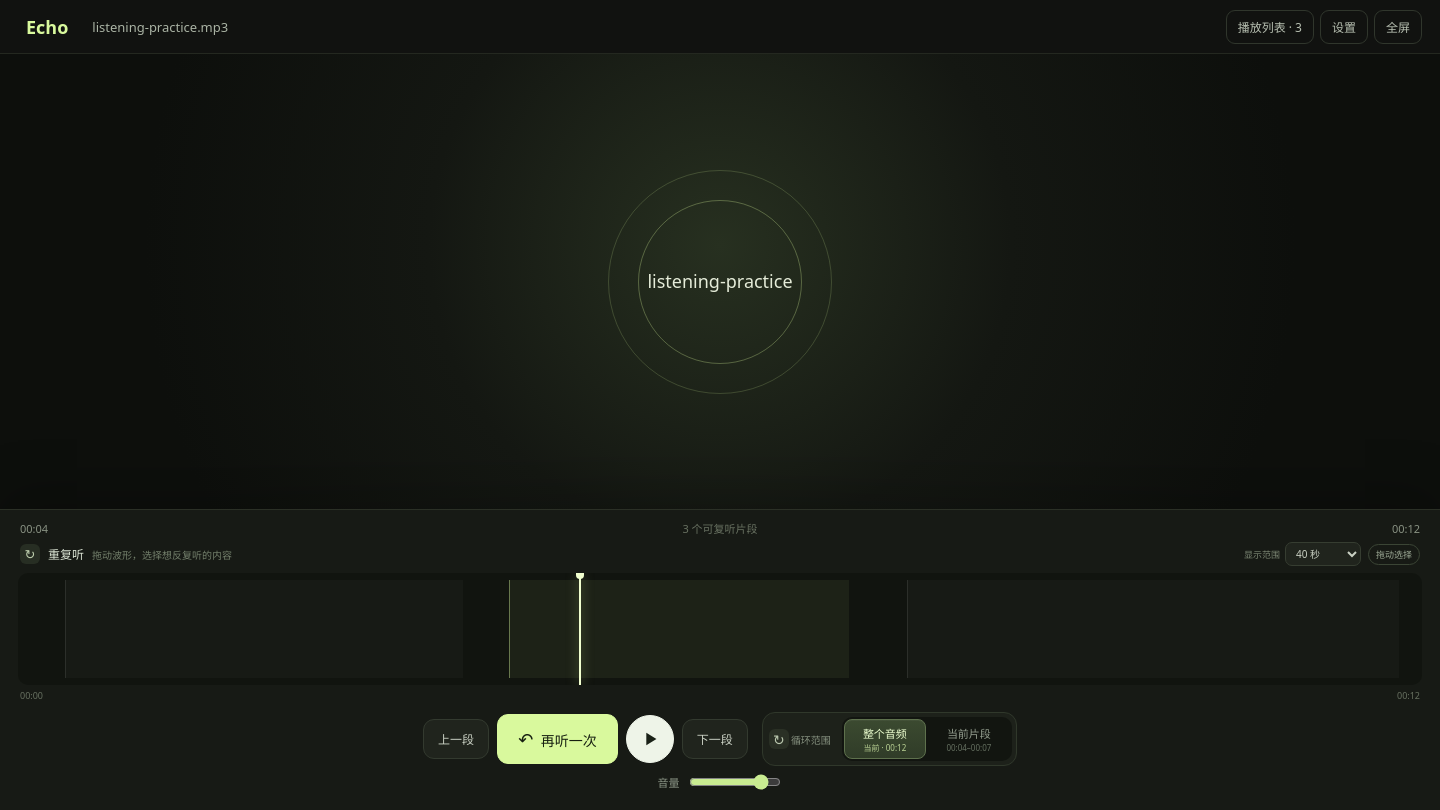
selection loop workbench › clears an unconfirmed draft with Escape without changing playback
This screenshot has width=1440, height=810.
Press the mouse on the slider named "拖动选择要重复听的内容": (720, 629) [18, 573, 1422, 685]
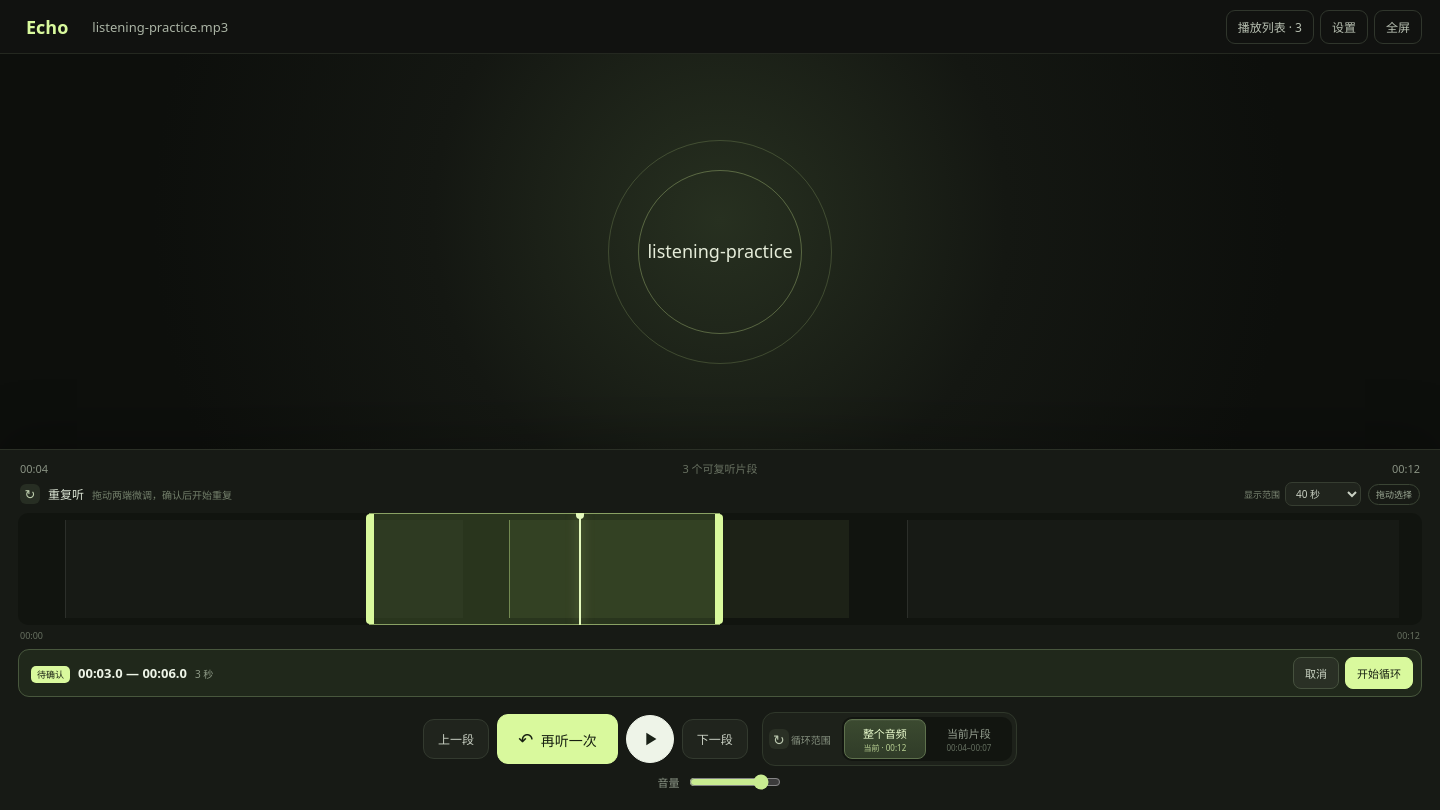
Now the element named "待确认的重复范围" is shown, box [18, 649, 1422, 697]
Press Escape
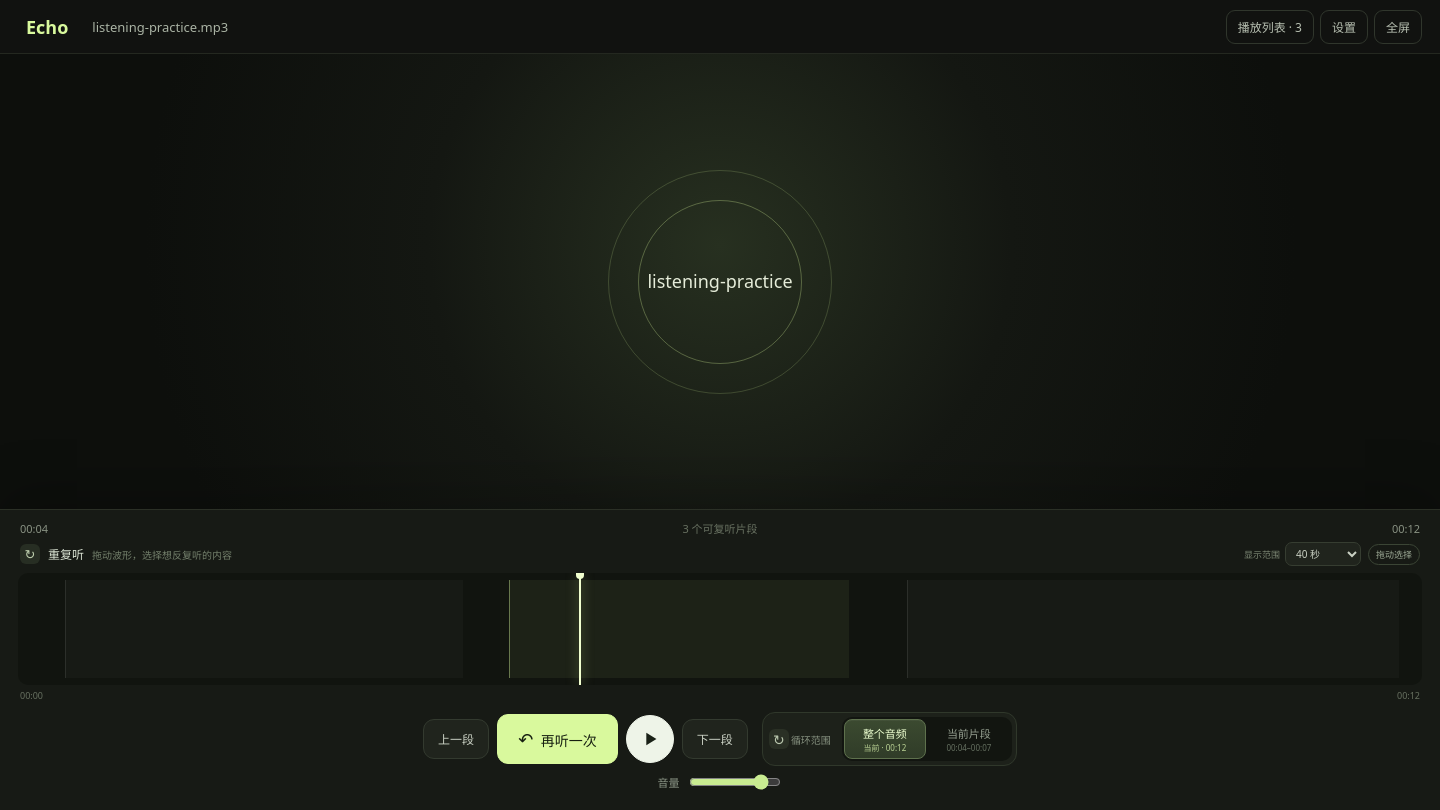
Now the element "待确认的重复范围" is gone
